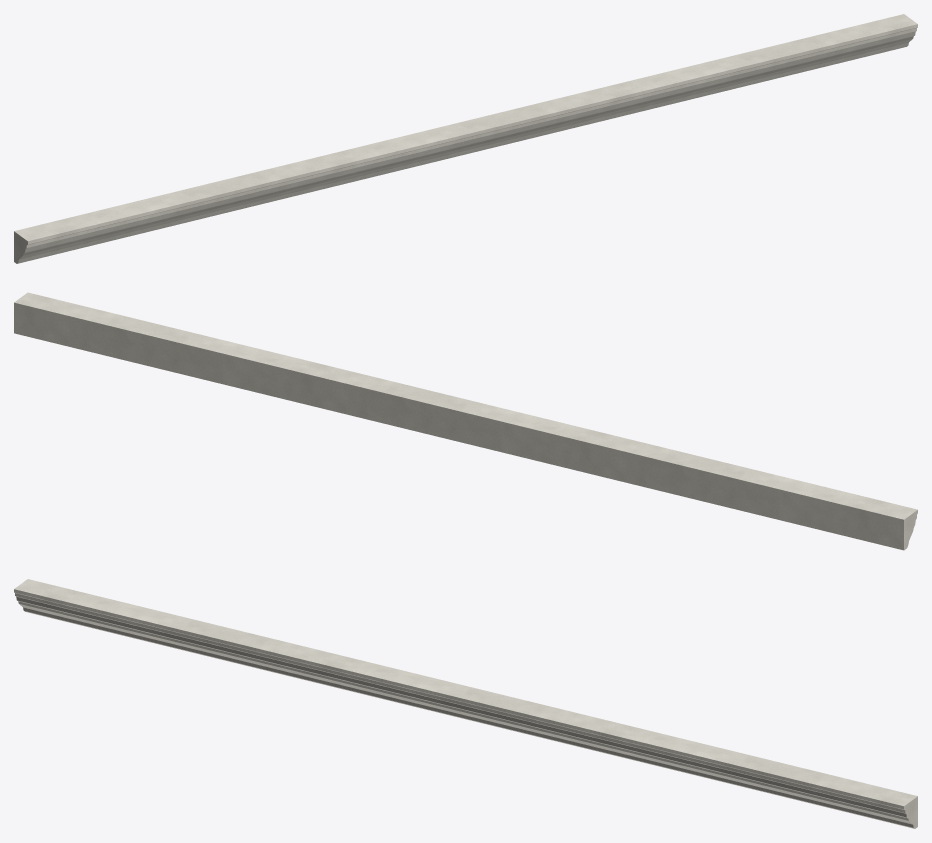
The model's file is PZ_InteriorTrim_V09_Crown_4m.glb.
The picture shows the model from 3 angles, top to bottom: view 1: azimuth 30°, elevation 25°; view 2: azimuth 150°, elevation 25°; view 3: azimuth 330°, elevation 25°; orthographic projection.
Visible parts, largest first — view 1: V09_Crown_4m__Crown_Moulding_Profile; view 2: V09_Crown_4m__Crown_Moulding_Profile; view 3: V09_Crown_4m__Crown_Moulding_Profile.
Part boxes in pixels (box(x1,y1,x2,y2)): V09_Crown_4m__Crown_Moulding_Profile: box(14, 14, 917, 263); V09_Crown_4m__Crown_Moulding_Profile: box(14, 292, 917, 550); V09_Crown_4m__Crown_Moulding_Profile: box(14, 579, 917, 828).
Bounding box in the file's own units: 4 × 0.132 × 0.108.
Materials: 1 (1 with a texture image).
